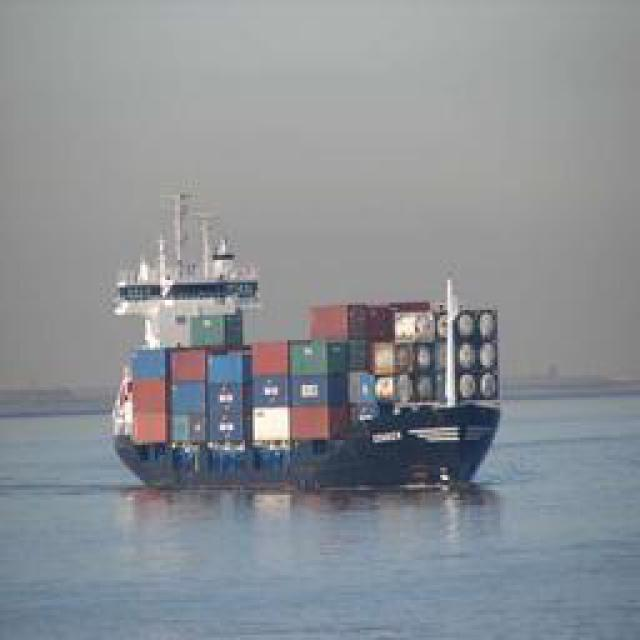Ship: (115, 317, 503, 490)
